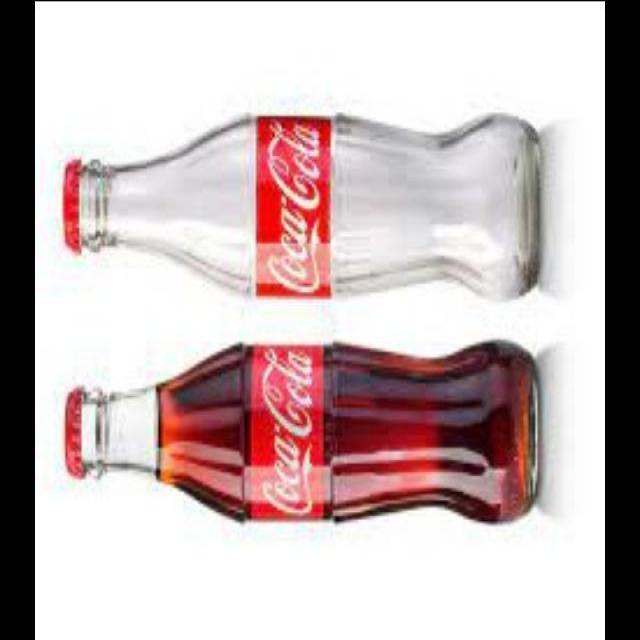Glass: (60, 103, 544, 302), (61, 333, 546, 531)
